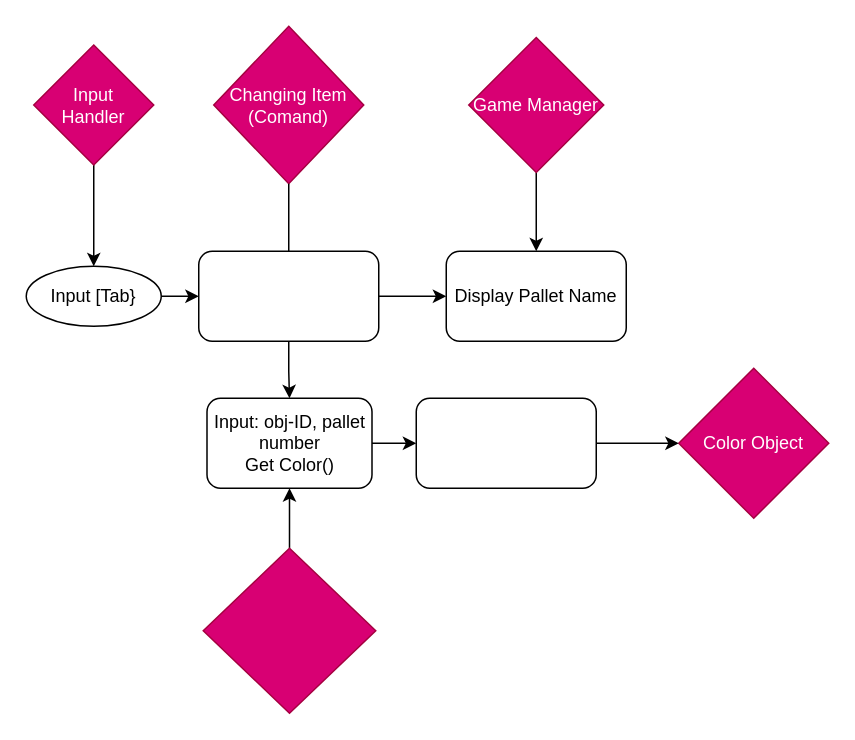
This 855x740 diagram has some shape labels left out. The centre of each missing label's shape, as x and y in pixels:
Change All Colors & Pallet Name: the point at 288,295
Change Color Input: the point at 505,442
Color List (DLL): the point at 289,630
